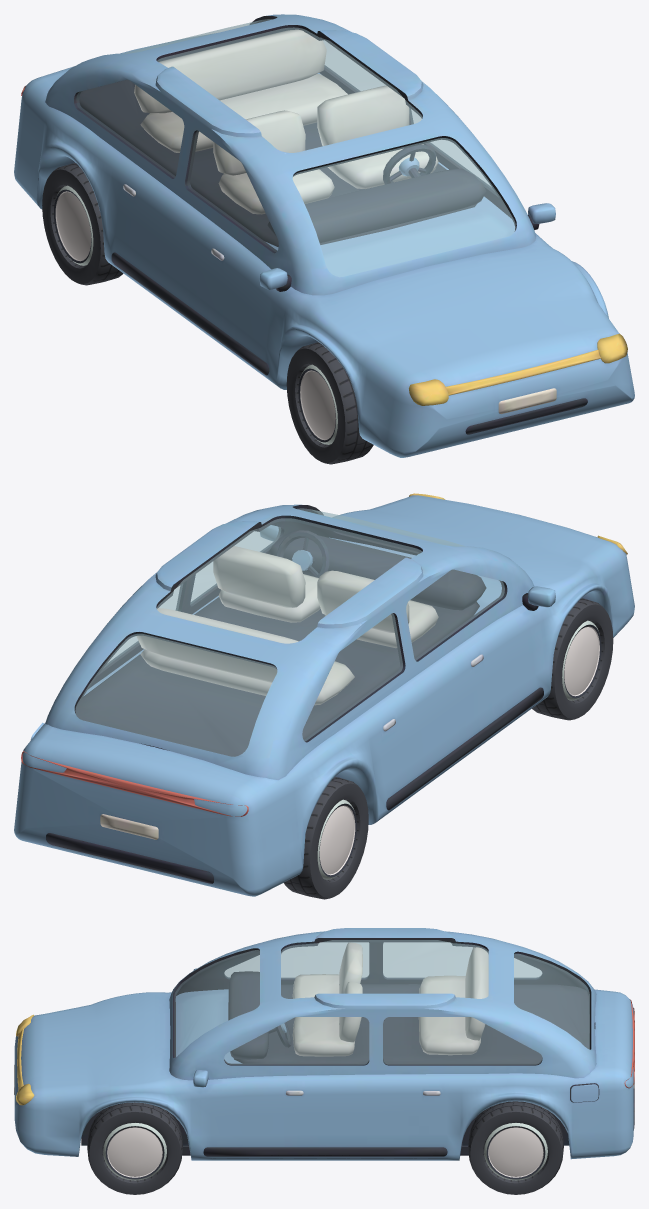
The model's file is electric-car.glb.
3 views of the same model, one above another, from view 1: azimuth 30°, elevation 25°; view 2: azimuth 150°, elevation 25°; view 3: azimuth 270°, elevation 25° (orthographic). The views are drawn at different scales.
Visible parts, largest first — view 1: electric-car_body, electric-car_windows, electric-car_wheel_fr, electric-car_wheel_rr; view 2: electric-car_body, electric-car_windows, electric-car_wheel_rr, electric-car_wheel_fr; view 3: electric-car_body, electric-car_windows, electric-car_wheel_rl, electric-car_wheel_fl, electric-car_charge_flap.
Part boxes in pixels (x1,y1,x2,y2): electric-car_body: (14, 14, 634, 457); electric-car_windows: (76, 19, 515, 276); electric-car_wheel_fr: (286, 342, 373, 464); electric-car_wheel_rr: (42, 163, 123, 285); electric-car_body: (14, 493, 634, 896); electric-car_windows: (75, 508, 504, 756); electric-car_wheel_rr: (284, 777, 368, 899); electric-car_wheel_fr: (532, 598, 613, 720); electric-car_body: (14, 928, 634, 1160); electric-car_windows: (174, 940, 589, 1064); electric-car_wheel_rl: (468, 1101, 563, 1194); electric-car_wheel_fl: (87, 1102, 182, 1194); electric-car_charge_flap: (571, 1084, 598, 1102).
Size of the model in its own units: 1.92 by 1.45 by 4.53.
4 materials, 4 textured.
